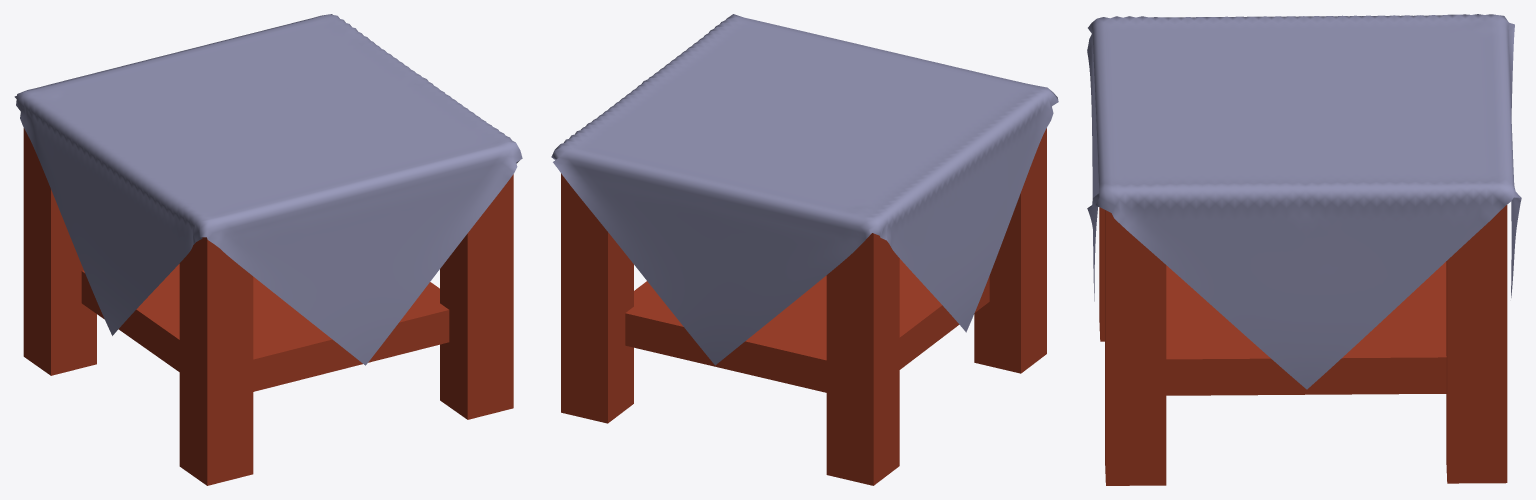
Rendered from TableWCloth.fbx.
3 renders of one model, left to right at view 1: azimuth 30°, elevation 25°; view 2: azimuth 150°, elevation 25°; view 3: azimuth 270°, elevation 25°, orthographic. The views are drawn at different scales.
Visible parts, largest first — view 1: table cloth (square), Side table; view 2: table cloth (square), Side table; view 3: table cloth (square), Side table.
Boxes of the visible parts, x1=… form: table cloth (square): x1=14, y1=14, x2=522, y2=365; Side table: x1=23, y1=128, x2=513, y2=485; table cloth (square): x1=551, y1=14, x2=1058, y2=365; Side table: x1=561, y1=128, x2=1046, y2=485; table cloth (square): x1=1087, y1=14, x2=1521, y2=389; Side table: x1=1099, y1=205, x2=1507, y2=485.
Size of the model in its own units: 216 by 164 by 217.
